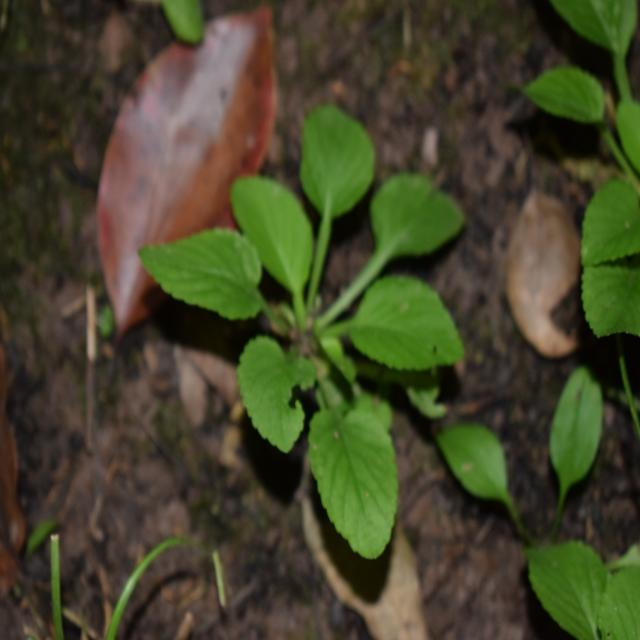Viola: (160, 91, 447, 550)
